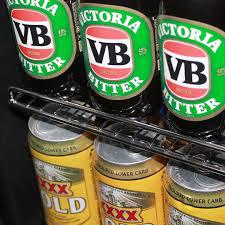beer: (3, 1, 225, 143), (23, 127, 225, 224)
